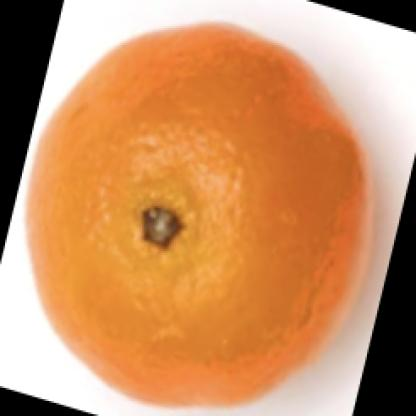fresh: (29, 20, 354, 416)
